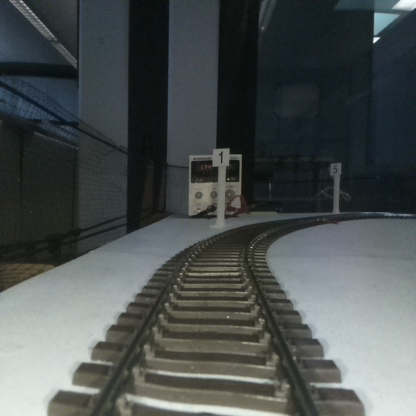white-info-1: (213, 147, 229, 228)
white-info-5: (330, 163, 340, 211)
